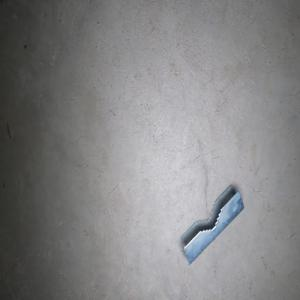ClampPart: (180, 183, 245, 266)
